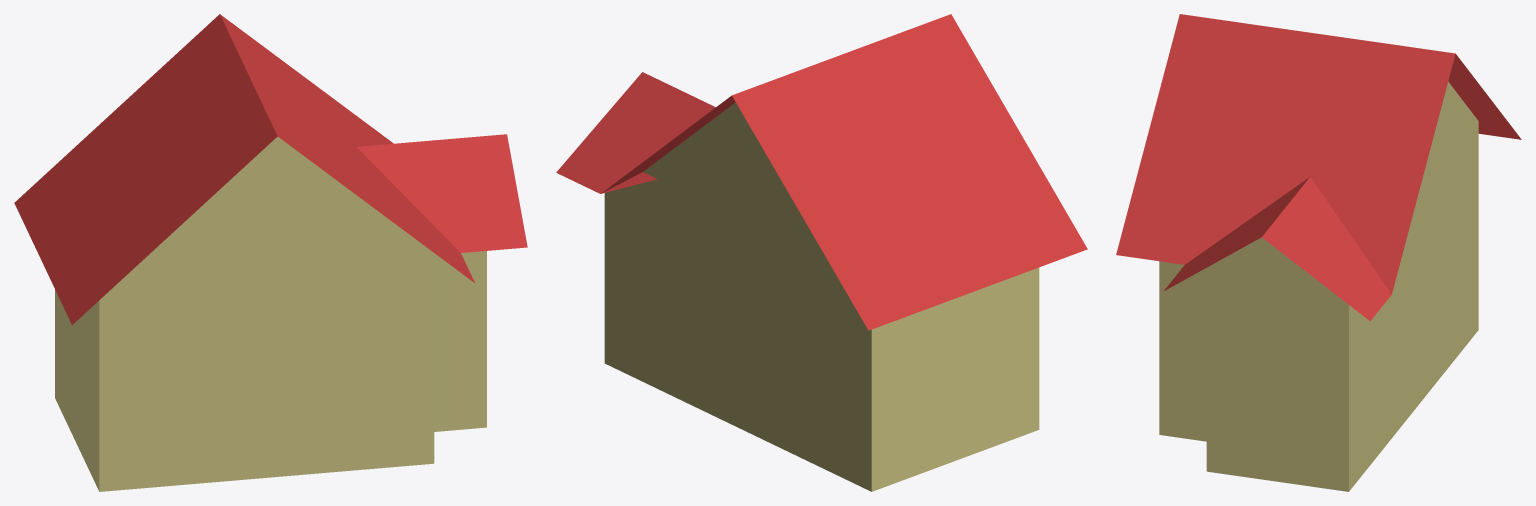
The picture shows the model from 3 angles, left to right: view 1: azimuth 30°, elevation 25°; view 2: azimuth 150°, elevation 25°; view 3: azimuth 270°, elevation 25°; orthographic projection.
Visible parts, largest first — view 1: group_5, group_3, group_7, group_10, group_4, group_9; view 2: group_5, group_3, group_7, group_4, group_10, group_9; view 3: group_3, group_10, group_5, group_7, group_4, group_9.
Boxes of the visible parts, left/top/right/bottom form: group_5: left=55, top=136, right=453, bottom=491; group_3: left=14, top=14, right=474, bottom=324; group_7: left=357, top=134, right=527, bottom=252; group_10: left=454, top=251, right=486, bottom=430; group_4: left=15, top=15, right=393, bottom=324; group_9: left=428, top=136, right=526, bottom=250; group_5: left=626, top=102, right=1039, bottom=491; group_3: left=602, top=14, right=1087, bottom=330; group_7: left=556, top=72, right=715, bottom=193; group_4: left=604, top=15, right=1087, bottom=327; group_10: left=604, top=187, right=626, bottom=373; group_9: left=558, top=95, right=656, bottom=193; group_3: left=1116, top=14, right=1521, bottom=293; group_10: left=1206, top=237, right=1359, bottom=491; group_5: left=1159, top=81, right=1478, bottom=478; group_7: left=1163, top=177, right=1391, bottom=321; group_4: left=1367, top=49, right=1520, bottom=291; group_9: left=1166, top=239, right=1391, bottom=319.
Size of the model in its own units: 23.69 by 17.77 by 16.93.
